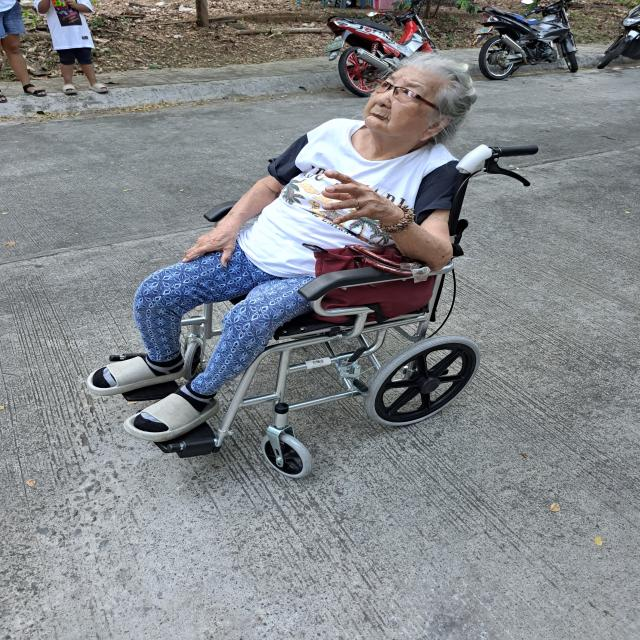wheelchairs: (90, 136, 551, 483)
